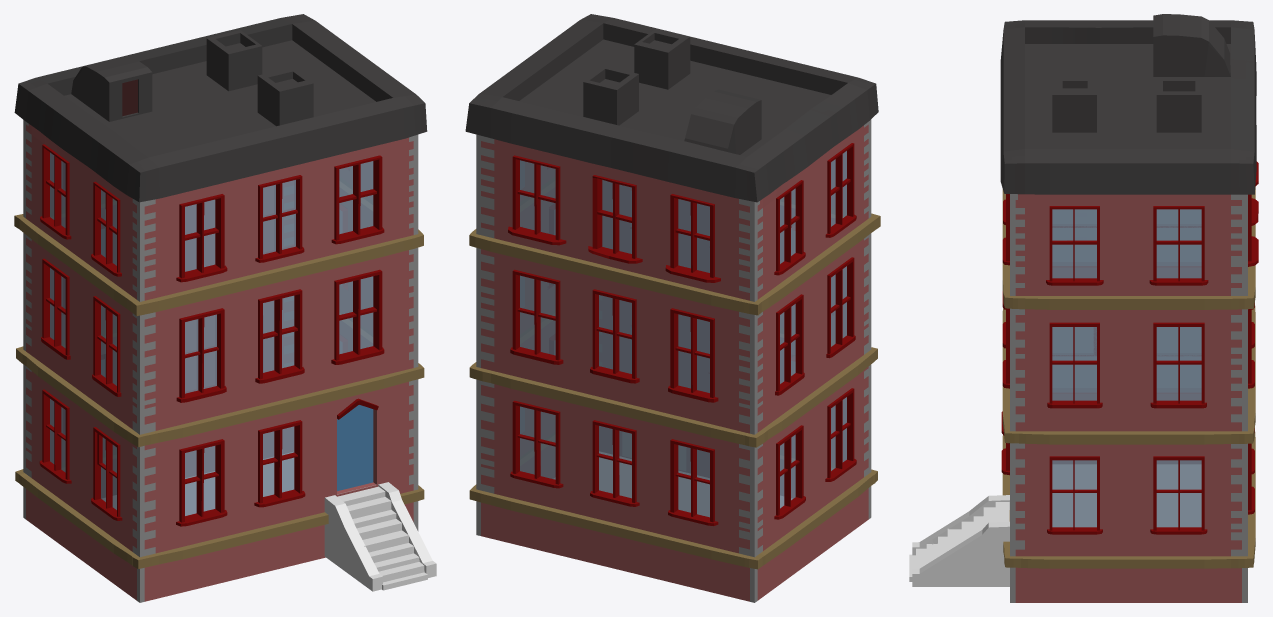
The model's file is Hus_3.fbx.
3 views of the same model, side by side, from view 1: azimuth 30°, elevation 25°; view 2: azimuth 150°, elevation 25°; view 3: azimuth 270°, elevation 25° (orthographic). The views are drawn at different scales.
Parts seen in each view (by area): view 1: pCube20; view 2: pCube20; view 3: pCube20.
Boxes of the visible parts, x1,y1,x2,y2 form: pCube20: (14,14,436,602); pCube20: (465,14,880,602); pCube20: (909,14,1258,602).
Size of the model in its own units: 233 by 350 by 236.
